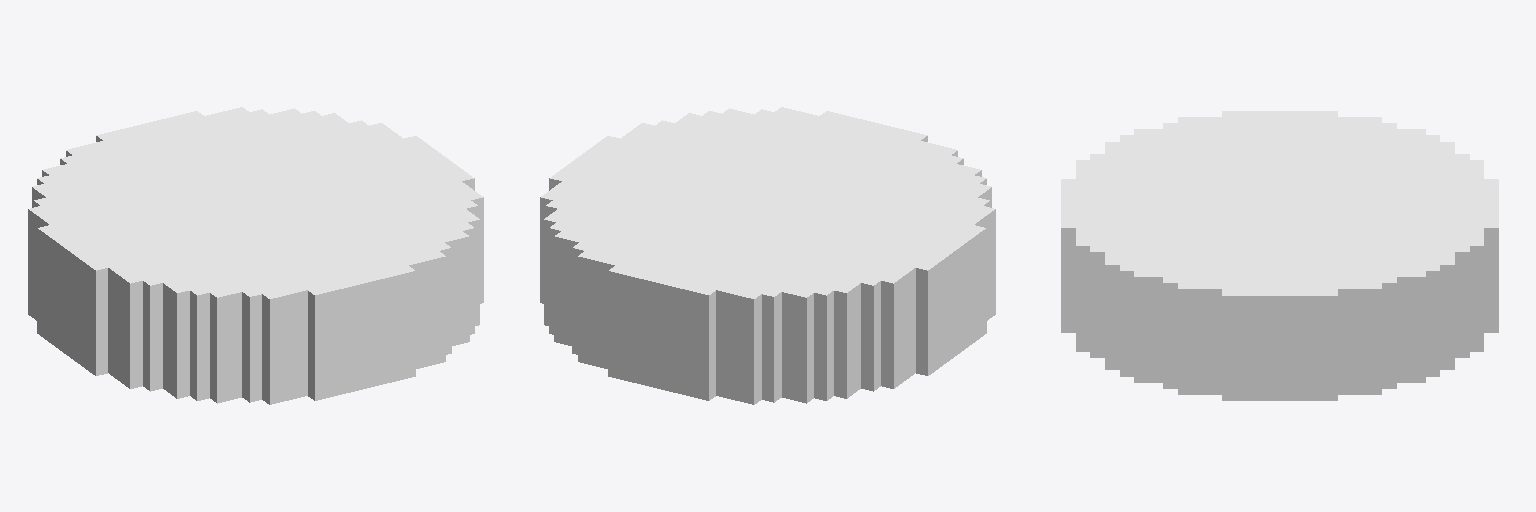
The model's file is snowman-10-scarf.obj.
3 renders of one model, left to right at view 1: azimuth 30°, elevation 25°; view 2: azimuth 150°, elevation 25°; view 3: azimuth 270°, elevation 25°, orthographic.
Visible parts, largest first — view 1: scarf; view 2: scarf; view 3: scarf.
Part boxes in pixels (x1,y1,x2,y2): scarf: (28, 107, 483, 404); scarf: (540, 107, 995, 404); scarf: (1061, 111, 1498, 400).
Size of the model in its own units: 3 by 0.8 by 3.